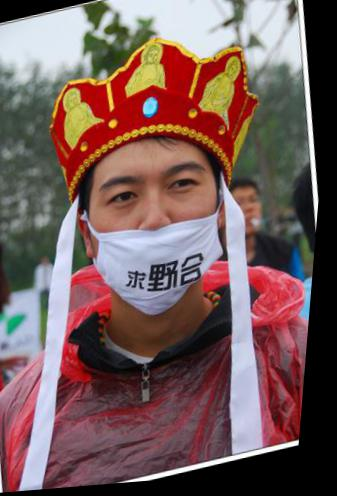NONE: (227, 194, 273, 243)
WRONG: (77, 141, 239, 313)
